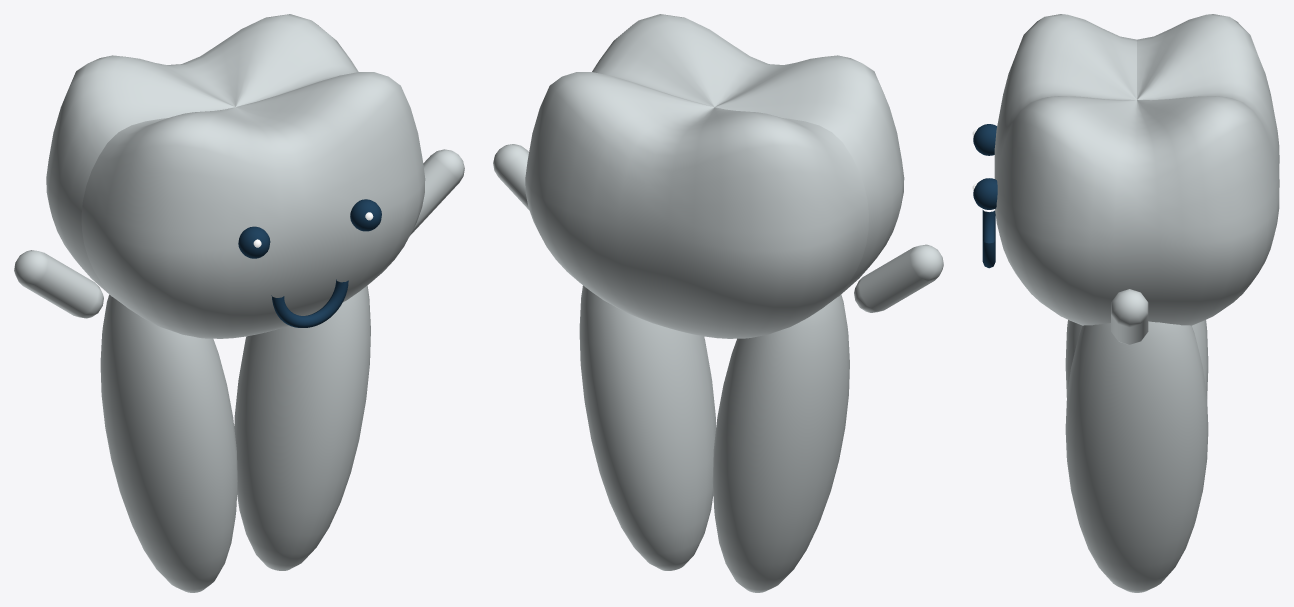
The model's file is dental.glb.
3 views of the same model, side by side, from view 1: azimuth 30°, elevation 25°; view 2: azimuth 150°, elevation 25°; view 3: azimuth 270°, elevation 25° (orthographic).
Parts seen in each view (by area): view 1: crown, root_left, root_right, rest_arm, wave_arm, eye (×2), dentalverse_03; view 2: crown, root_left, root_right, rest_arm, wave_arm; view 3: crown, root_right, wave_arm, eye (×2), root_left, dentalverse_03.
Boxes of the visible parts, <box> form: crown: <box>46,14,425,338</box>; root_left: <box>100,294,237,592</box>; root_right: <box>234,285,370,570</box>; rest_arm: <box>14,250,103,318</box>; wave_arm: <box>410,149,464,235</box>; eye (×2): <box>238,199,381,258</box>; dentalverse_03: <box>253,212,373,327</box>; crown: <box>525,14,904,338</box>; root_left: <box>712,294,849,592</box>; root_right: <box>579,285,716,570</box>; rest_arm: <box>854,244,943,312</box>; wave_arm: <box>493,144,528,209</box>; crown: <box>994,14,1279,325</box>; root_right: <box>1065,321,1208,592</box>; wave_arm: <box>1111,289,1148,344</box>; eye (×2): <box>973,124,997,209</box>; root_left: <box>1065,320,1208,398</box>; dentalverse_03: <box>972,129,995,268</box>.
Bounding box in the file's own units: 2.07 × 2.27 × 1.25.
